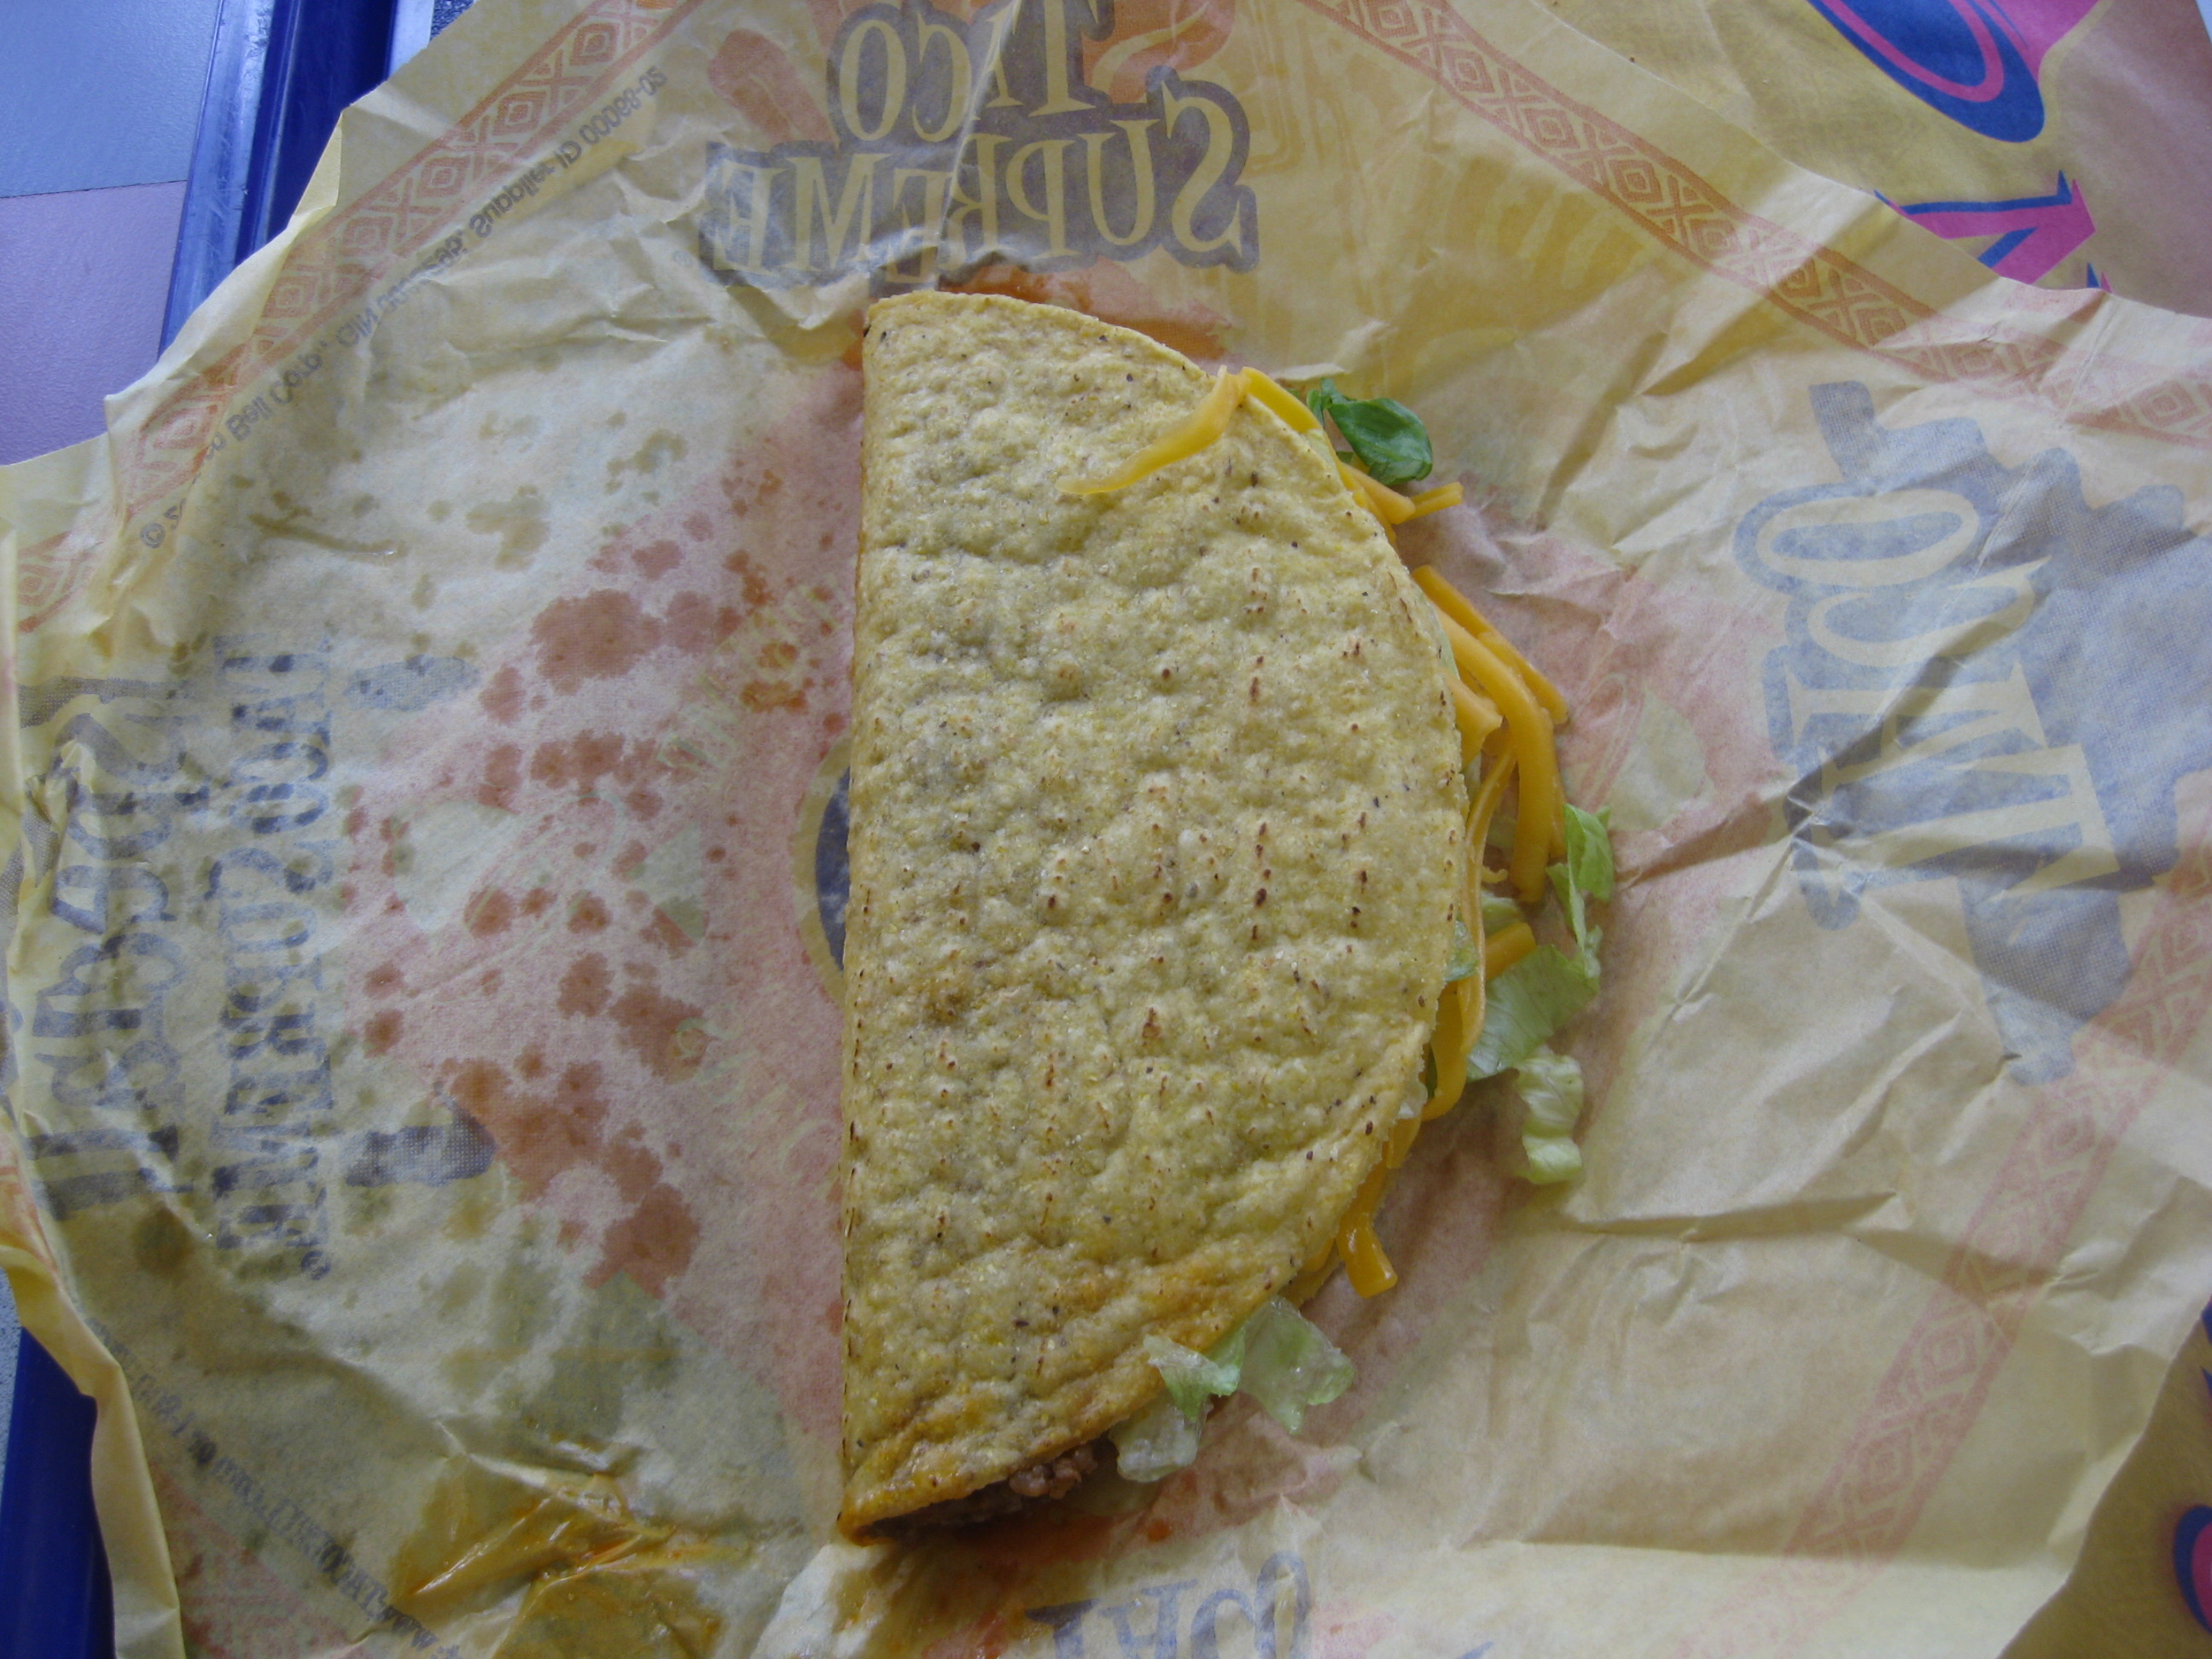taco: (791, 215, 1565, 1580)
